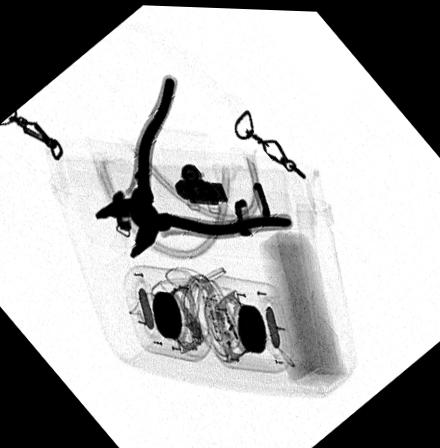Pliers: (93, 72, 294, 258)
